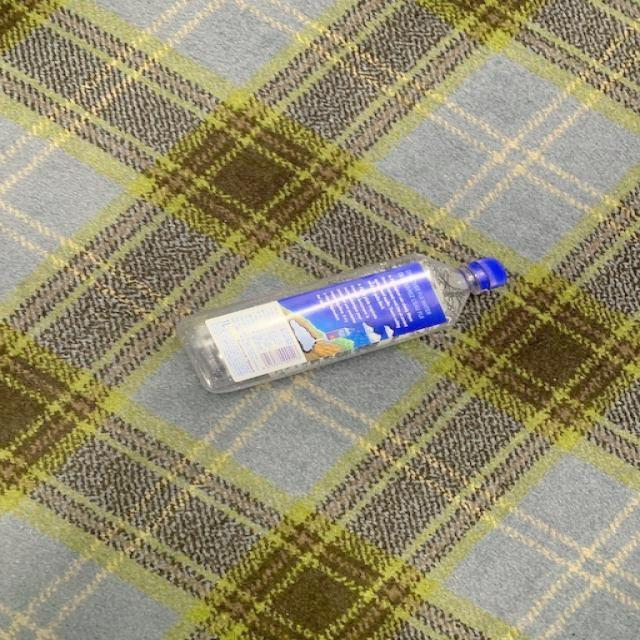bottle: (176, 253, 506, 394)
